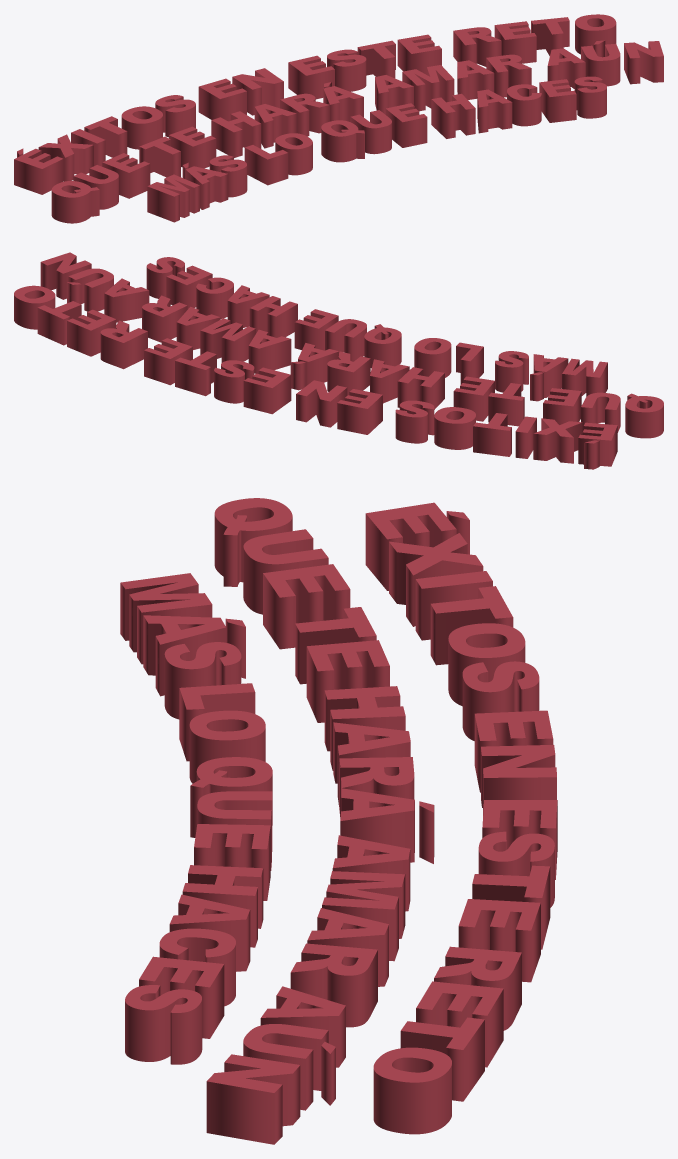
File: EXITOS.fbx
The picture shows the model from 3 angles, top to bottom: view 1: azimuth 30°, elevation 25°; view 2: azimuth 150°, elevation 25°; view 3: azimuth 270°, elevation 25°; orthographic projection. The views are drawn at different scales.
Parts seen in each view (by area): view 1: Text; view 2: Text; view 3: Text.
Boxes of the visible parts, left/top/right/bottom form: Text: left=14, top=14, right=663, bottom=223; Text: left=14, top=252, right=663, bottom=469; Text: left=120, top=498, right=557, bottom=1144.
Size of the model in its own units: 987 by 40 by 306.
